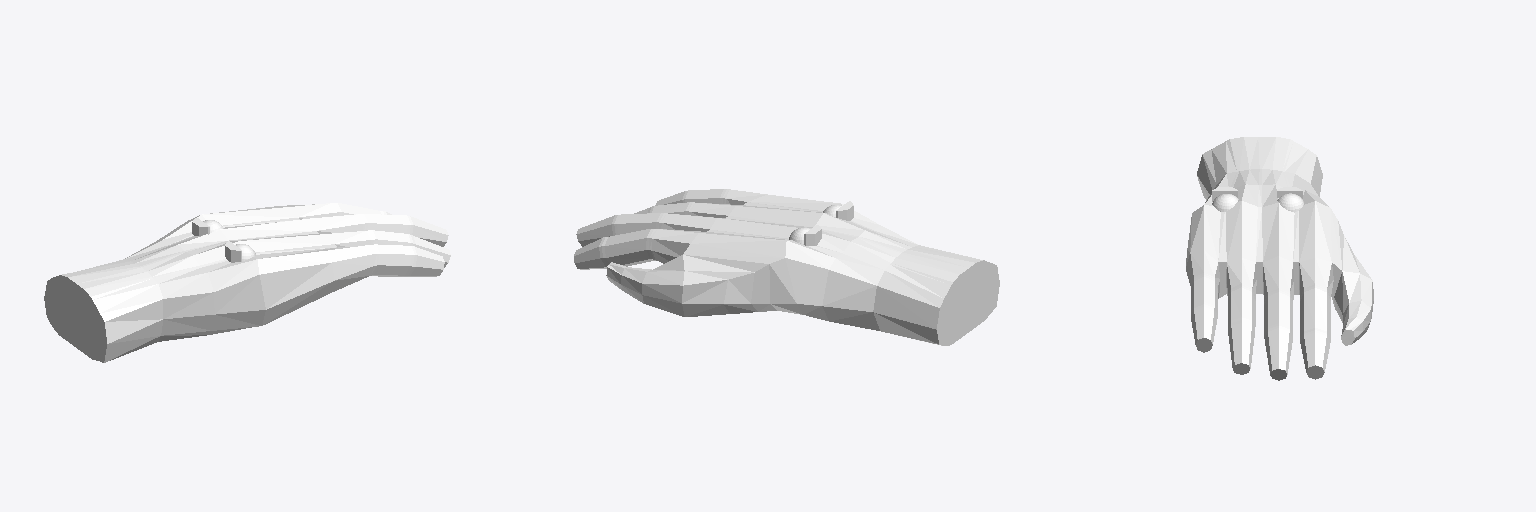
The model's file is main_controle_texture.obj.
The picture shows the model from 3 angles: view 1: azimuth 30°, elevation 25°; view 2: azimuth 150°, elevation 25°; view 3: azimuth 270°, elevation 25°; orthographic projection.
Parts seen in each view (by area): view 1: Main; view 2: Main; view 3: Main.
Boxes of the visible parts, x1,y1,x2,y2 form: Main: [44, 203, 450, 362]; Main: [574, 189, 999, 345]; Main: [1186, 137, 1373, 380].
Size of the model in its own units: 107 by 22.45 by 45.96.